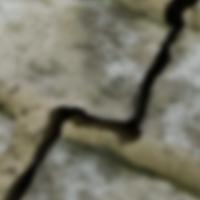brick: (27, 138, 199, 199), (0, 112, 16, 156)
broken_brick: (0, 0, 164, 119), (143, 24, 199, 157)
crack: (0, 0, 199, 199)
